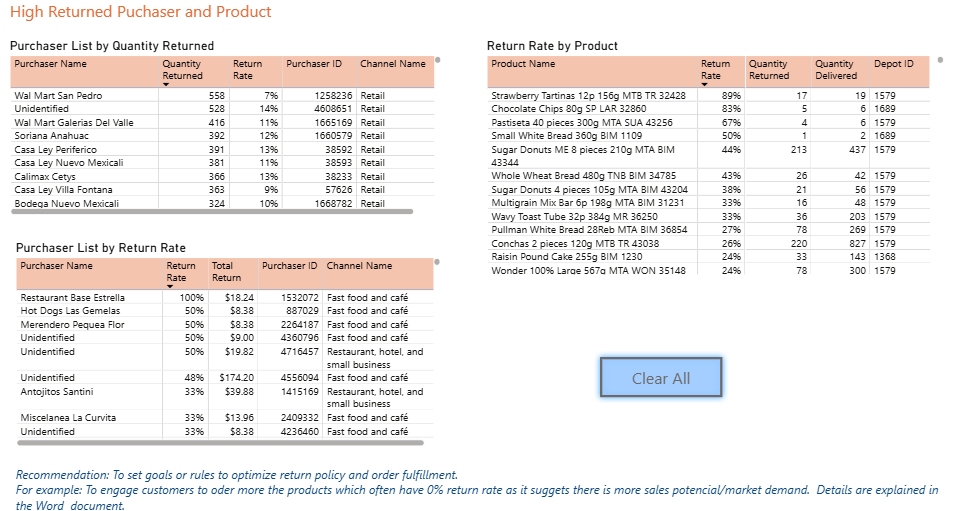

The page's visual inventory and layout, read from the dashboard file:
{"tool":"powerbi","page":{"name":"Return","canvas":[1280,720],"ordinal":3},"visuals":[{"type":"tableEx","title":"Purchaser List by Quantity Returned ","fields":{"Values":["Sales and Return.Purchaser Name","Sum(Sales and Return.Quantity Returned)","Avg(Sales and Return.Return Rate)","Sales and Return.Purchaser ID","Sales and Return.Channel Name"]},"box":[15.3,63.3,582.7,239.8],"z":0},{"type":"tableEx","title":"Purchaser List by Return Rate","fields":{"Values":["Sales and Return.Purchaser Name","Avg(Sales and Return.Raturn Rate)","Sum(Sales and Return.Total Return)","Sales and Return.Purchaser ID","Sales and Return.Channel Name"]},"box":[23.5,332.7,574.5,278.6],"z":1000},{"type":"tableEx","title":"Return Rate by Product","fields":{"Values":["Product.Product Name","Avg(Sales and Return.Return Rate)","Sum(Sales and Return.Quantity Returned)","Sum(Sales and Return.Quantity Delivered)","Depot.Depot ID"]},"box":[650,63.3,617.3,319.4],"z":2000},{"type":"textbox","box":[15.3,8.2,639.8,41.8],"z":3000},{"type":"textbox","box":[23.5,626.5,1243.9,93.9],"z":4000},{"type":"textbox","box":[796.9,549,77.6,73.5],"z":5000},{"type":"actionButton","box":[796.9,479.6,178.6,69.4],"z":6000}]}

Visuals, with their boxes on the page's 1280x720 design canvas (x1, y1, x2, y2). These are canvas units, not pixel positions in the 955x511 screenshot, which may show the page scaled, cropped or inside an application window:
"Purchaser List by Quantity Returned " tableEx: select_region(15, 63, 598, 303)
"Purchaser List by Return Rate" tableEx: select_region(24, 333, 598, 611)
"Return Rate by Product" tableEx: select_region(650, 63, 1267, 383)
textbox: select_region(15, 8, 655, 50)
textbox: select_region(24, 626, 1267, 720)
textbox: select_region(797, 549, 874, 622)
actionButton: select_region(797, 480, 976, 549)
